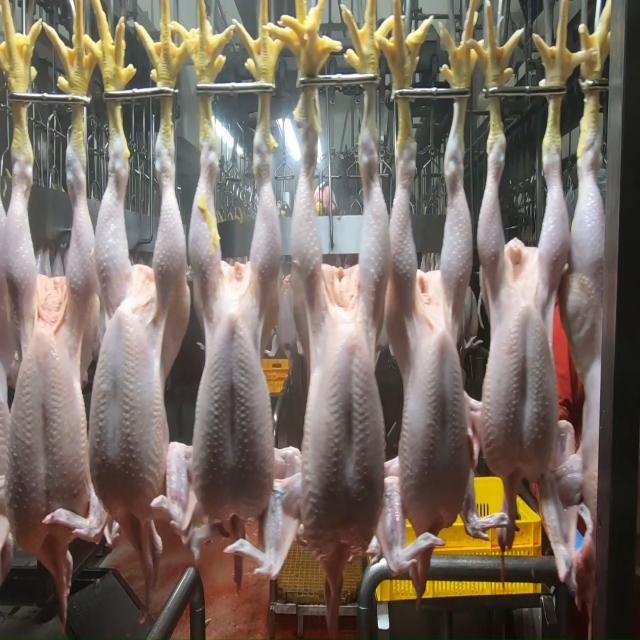chicken: (286, 83, 388, 554), (387, 111, 479, 547), (187, 131, 281, 533), (4, 144, 95, 556), (88, 131, 180, 525), (473, 105, 561, 477), (564, 140, 608, 487)
